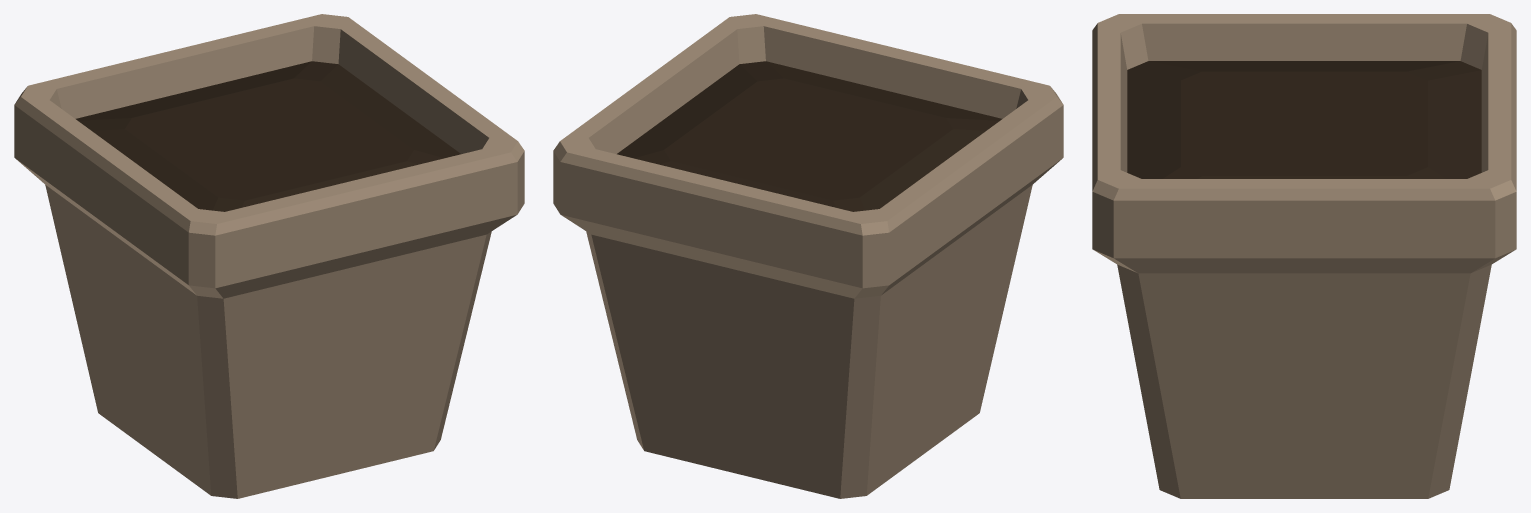
The model's file is SM_Clutter_PlanterSquare_Concrete_01.fbx.
The picture shows the model from 3 angles, left to right: view 1: azimuth 30°, elevation 25°; view 2: azimuth 150°, elevation 25°; view 3: azimuth 270°, elevation 25°; orthographic projection. The views are drawn at different scales.
Parts seen in each view (by area): view 1: SM_Clutter_PlanterSquare_Concrete_01; view 2: SM_Clutter_PlanterSquare_Concrete_01; view 3: SM_Clutter_PlanterSquare_Concrete_01.
Part boxes in pixels (bbox=[...]): SM_Clutter_PlanterSquare_Concrete_01: bbox=[14, 14, 524, 498]; SM_Clutter_PlanterSquare_Concrete_01: bbox=[553, 14, 1063, 498]; SM_Clutter_PlanterSquare_Concrete_01: bbox=[1092, 14, 1516, 498].
Size of the model in its own units: 0.24 by 0.21 by 0.24.
Materials: 1 (1 with a texture image).
